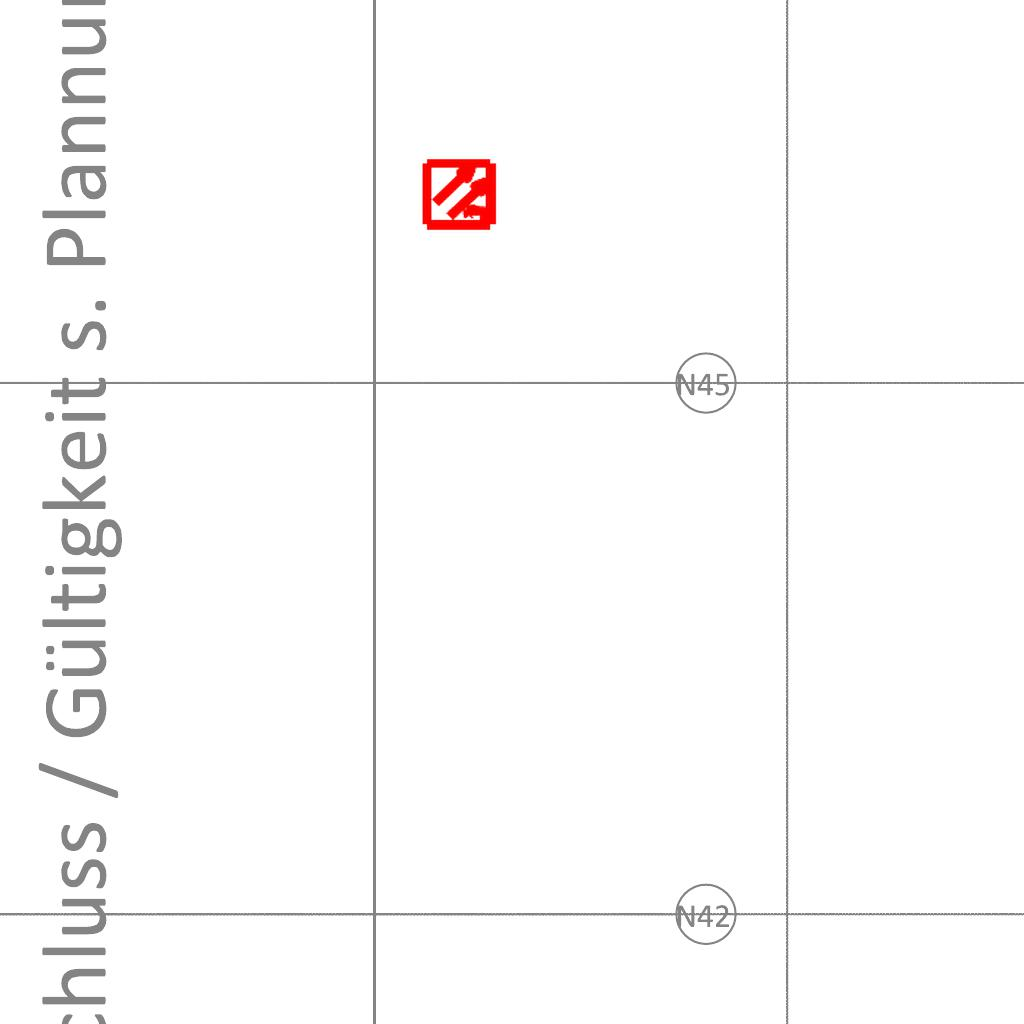OT_Multisensormelder_(Kombination_RMO_WMD): (405, 138, 518, 251)
